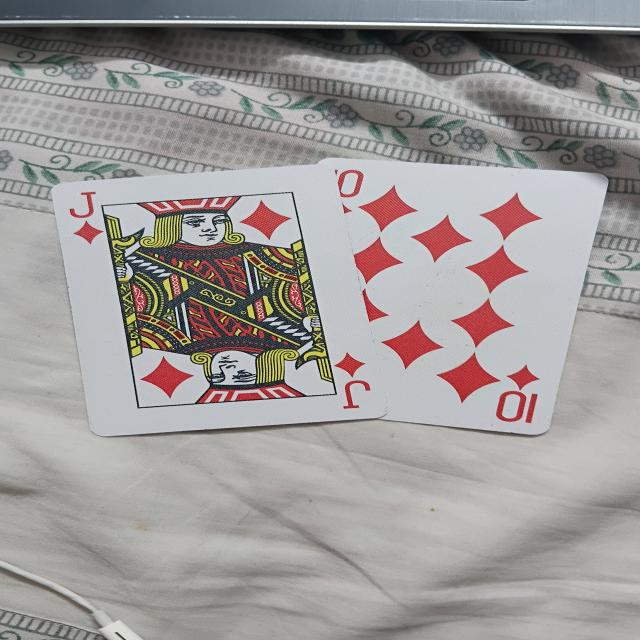JD: (48, 178, 388, 426)
